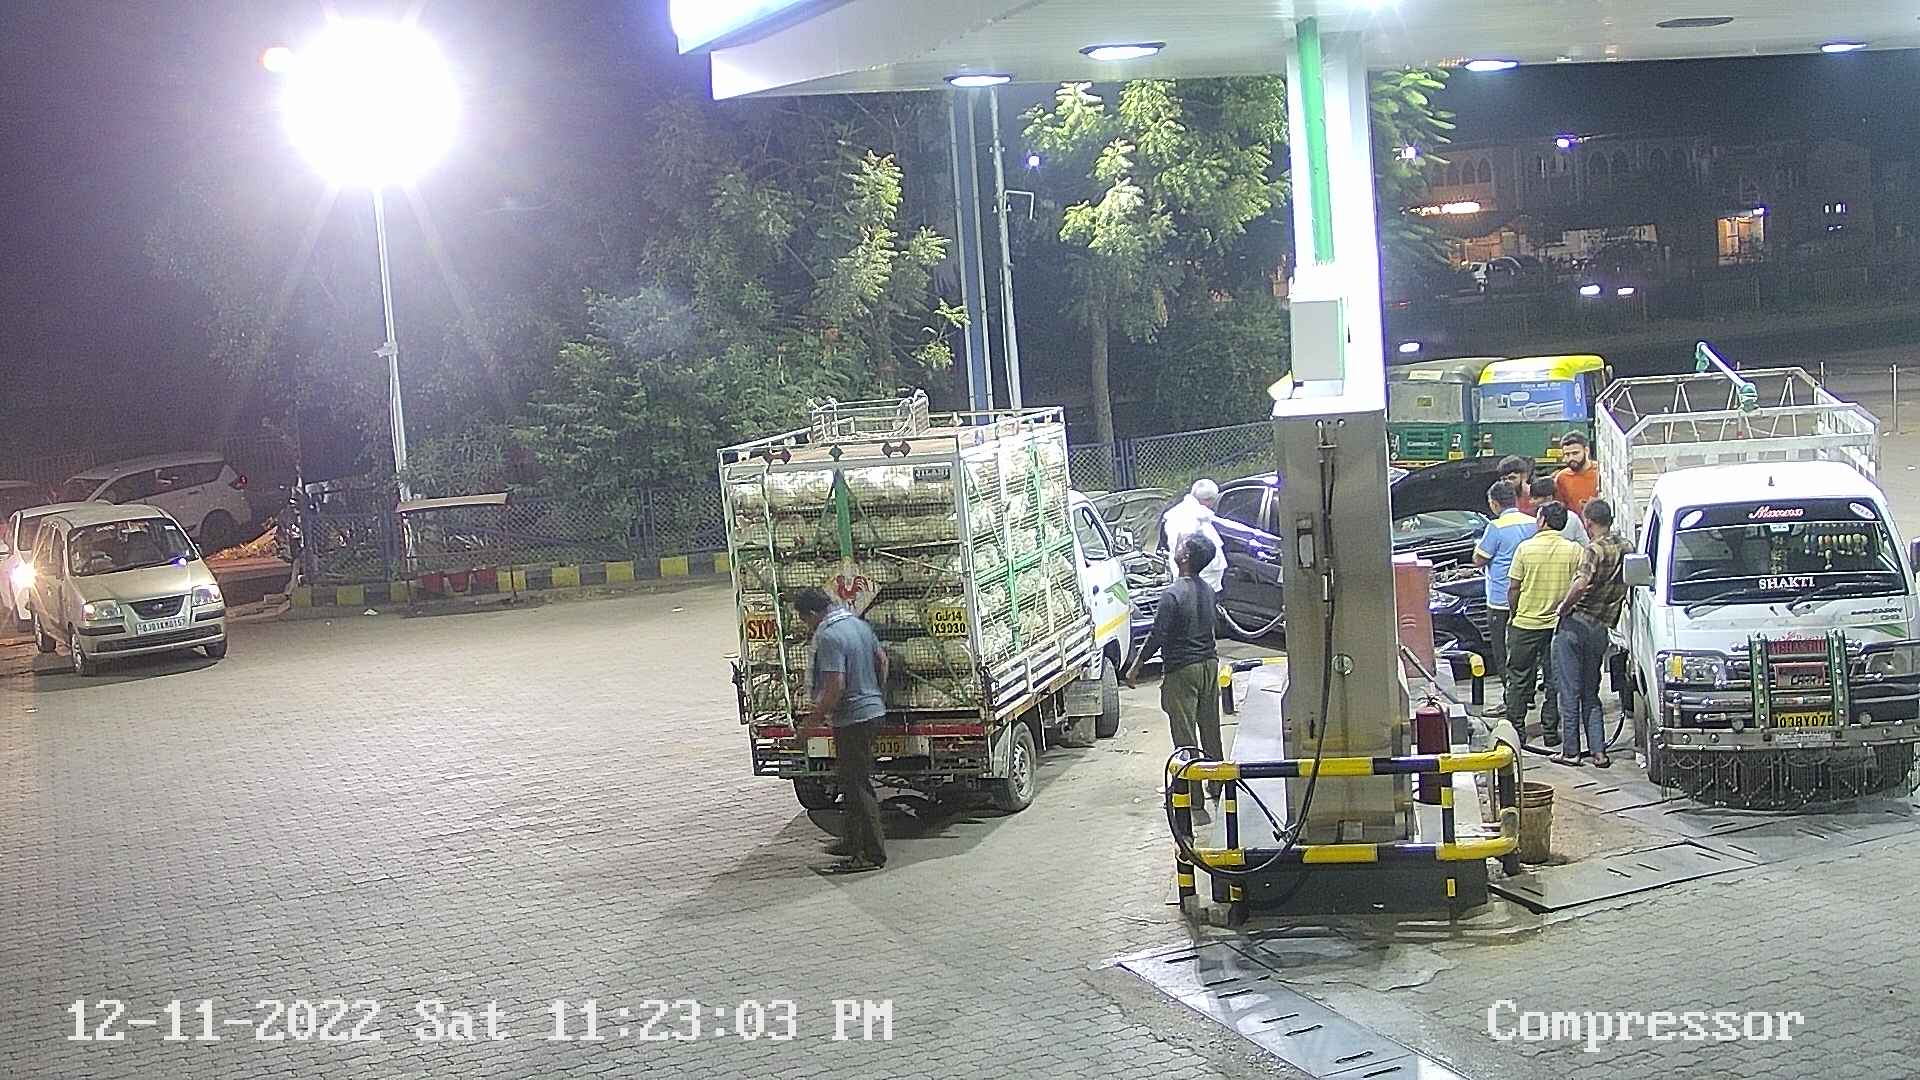Auto: (1458, 345, 1621, 481), (1375, 351, 1506, 473)
Car: (709, 380, 1138, 820), (1590, 334, 1917, 814), (25, 493, 233, 683), (46, 440, 262, 566), (1156, 455, 1290, 650), (1065, 473, 1179, 676), (1, 493, 109, 638), (0, 459, 54, 553)
Others: (1469, 469, 1535, 723)
